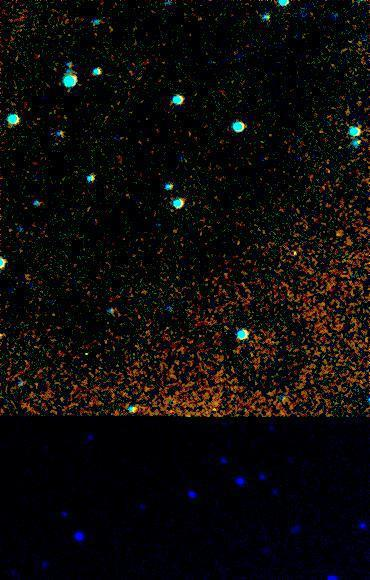star: (277, 241, 307, 271)
